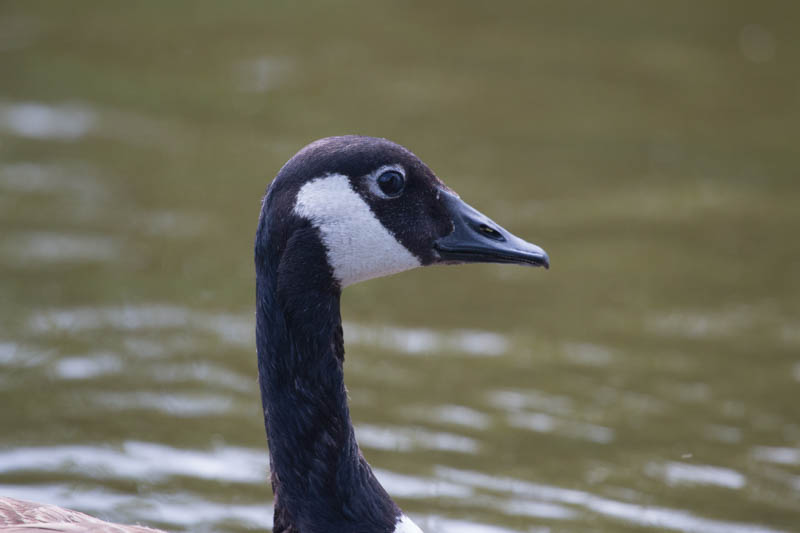goose-head: (255, 133, 552, 286)
